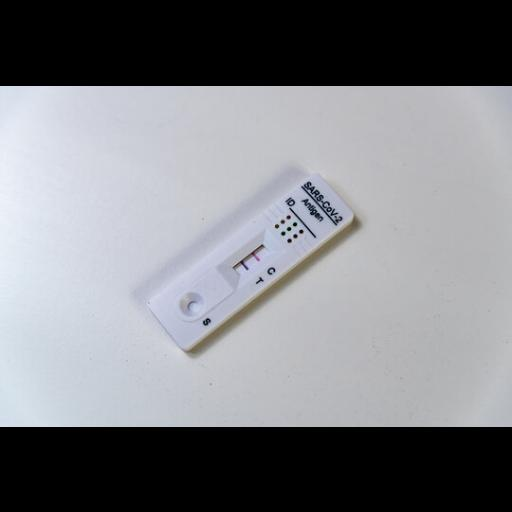Pos: (145, 171, 355, 350)
